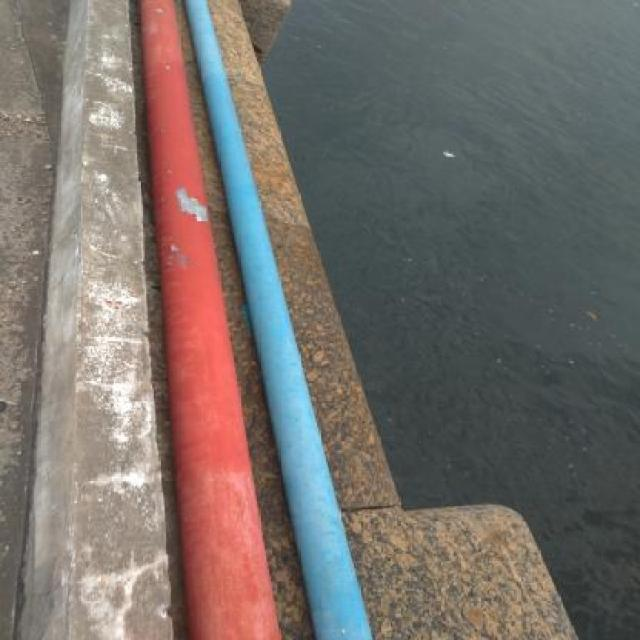gas: (189, 0, 376, 640), (130, 1, 283, 640)
